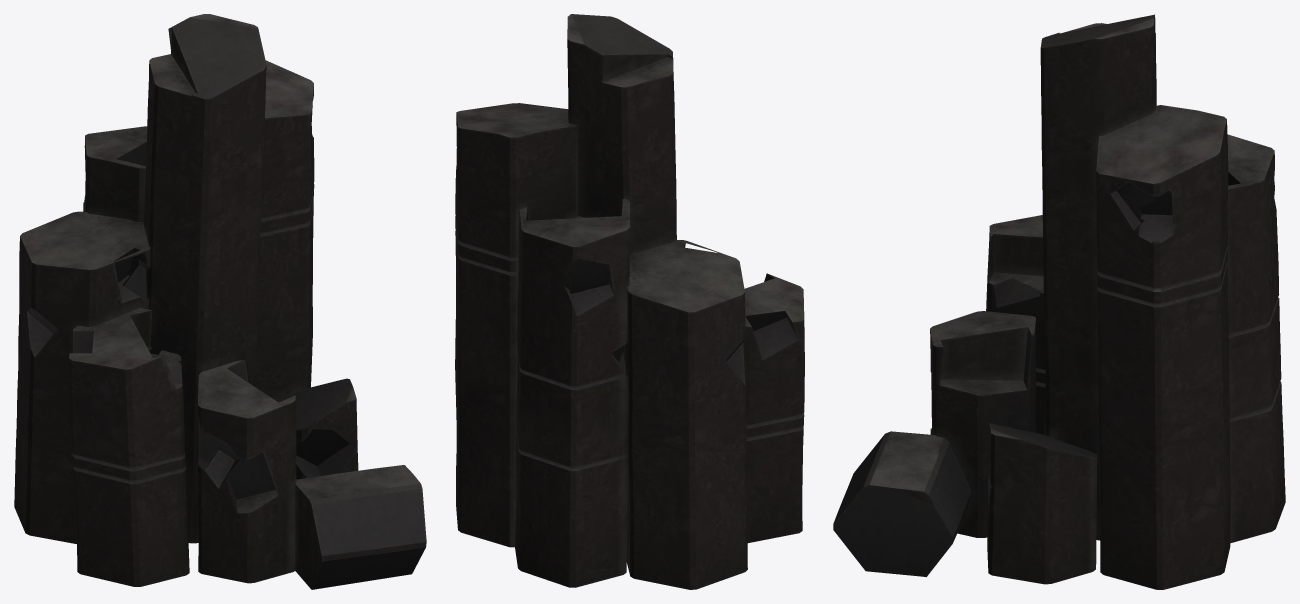
Rendered from b4p_basalt_columns.glb.
3 renders of one model, left to right at view 1: azimuth 30°, elevation 25°; view 2: azimuth 150°, elevation 25°; view 3: azimuth 270°, elevation 25°, orthographic. The views are drawn at different scales.
Parts seen in each view (by area): view 1: b4p_basalt_columns; view 2: b4p_basalt_columns; view 3: b4p_basalt_columns.
Boxes of the visible parts, x1,y1,x2,y2 form: b4p_basalt_columns: (14, 14, 426, 589); b4p_basalt_columns: (455, 14, 804, 589); b4p_basalt_columns: (833, 14, 1285, 589).
Size of the model in its own units: 1.4 by 2.2 by 1.77.
Materials: 1 (1 with a texture image).
